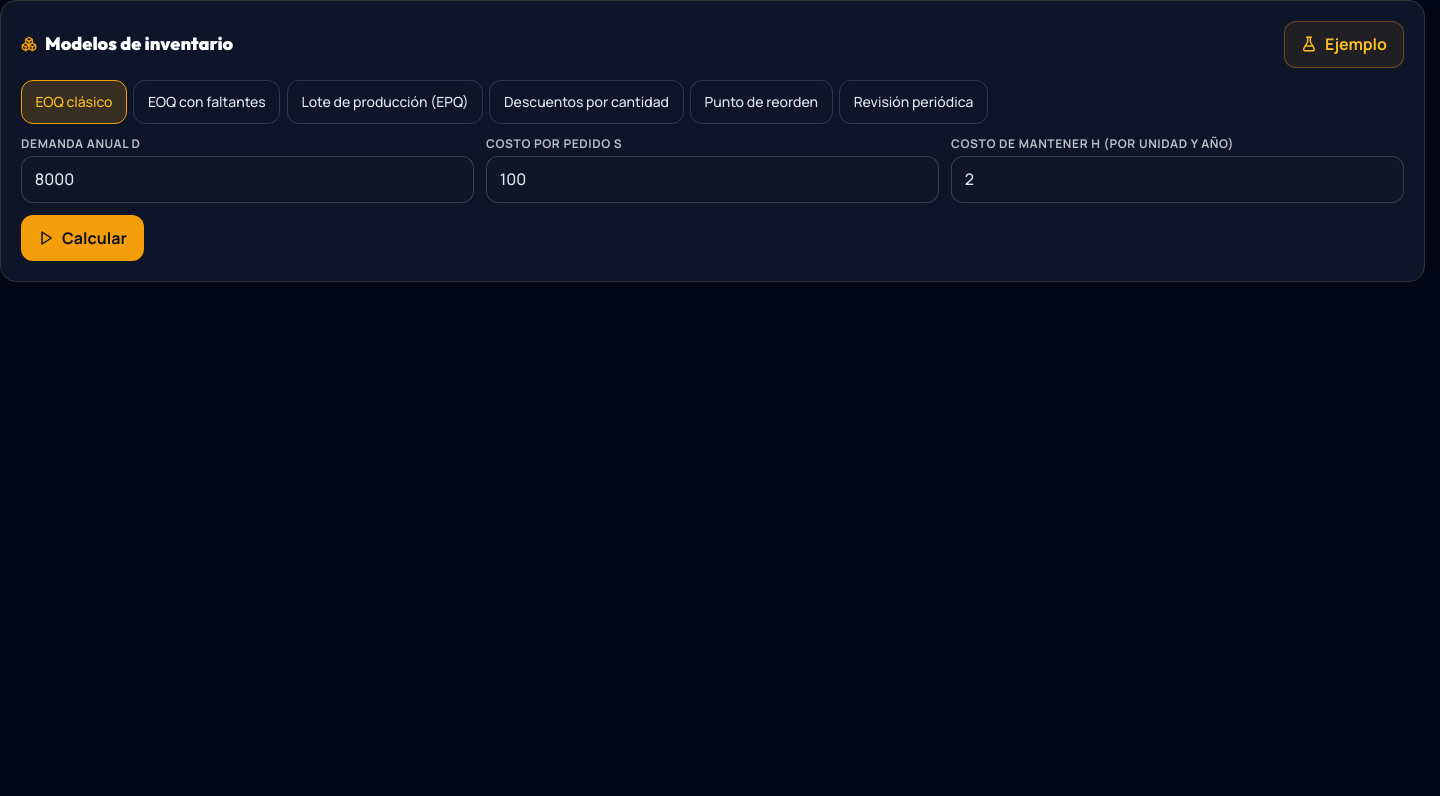
Test case: Inventarios resuelve el ejemplo inicial sin romper su vista
Click the button "Calcular": (82, 238) [21,215,144,261]
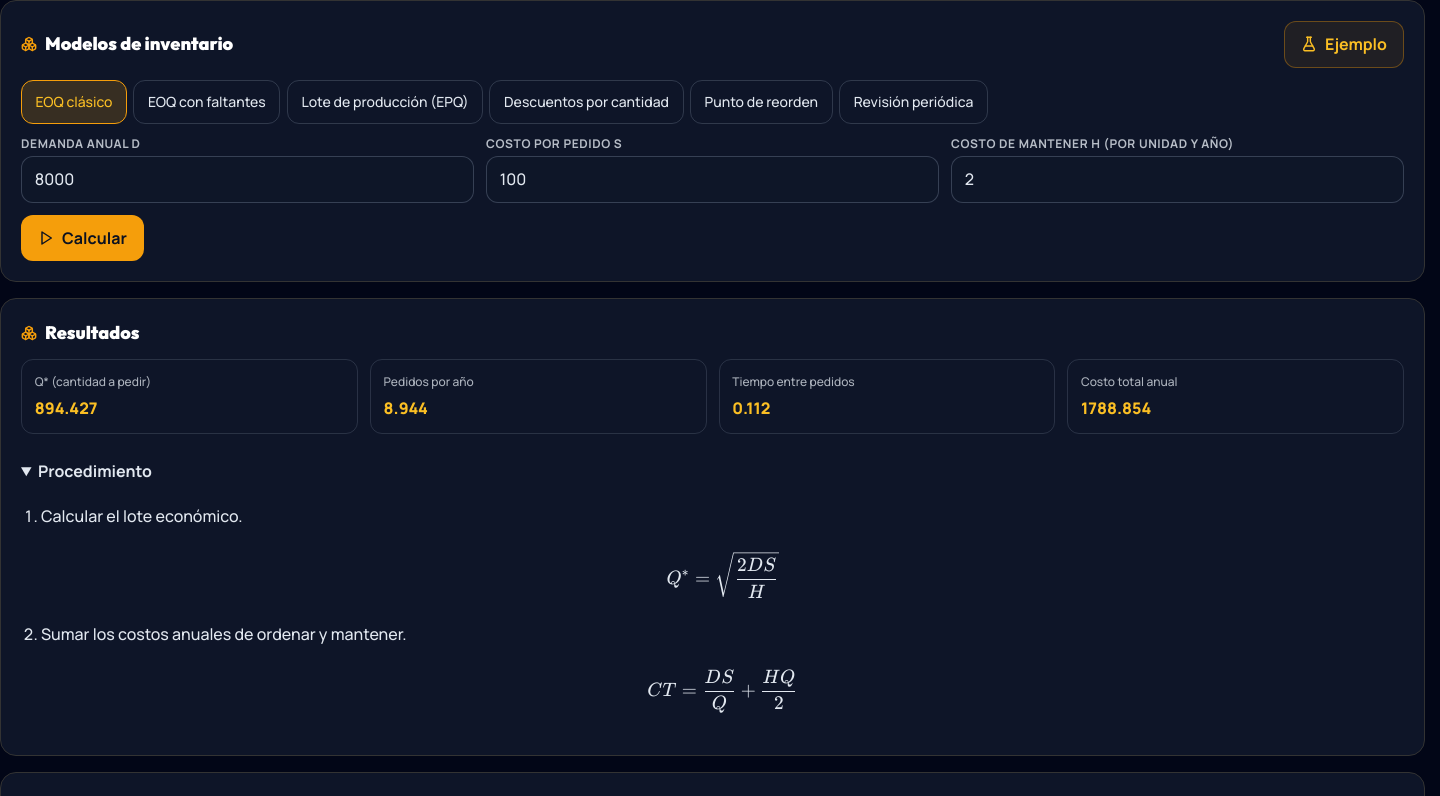
Expected: the element that starts with "Q* (cantidad a pedir)" is shown, [21,359,1404,434]
Expected: the text "894" is shown, [35,397,98,419]
